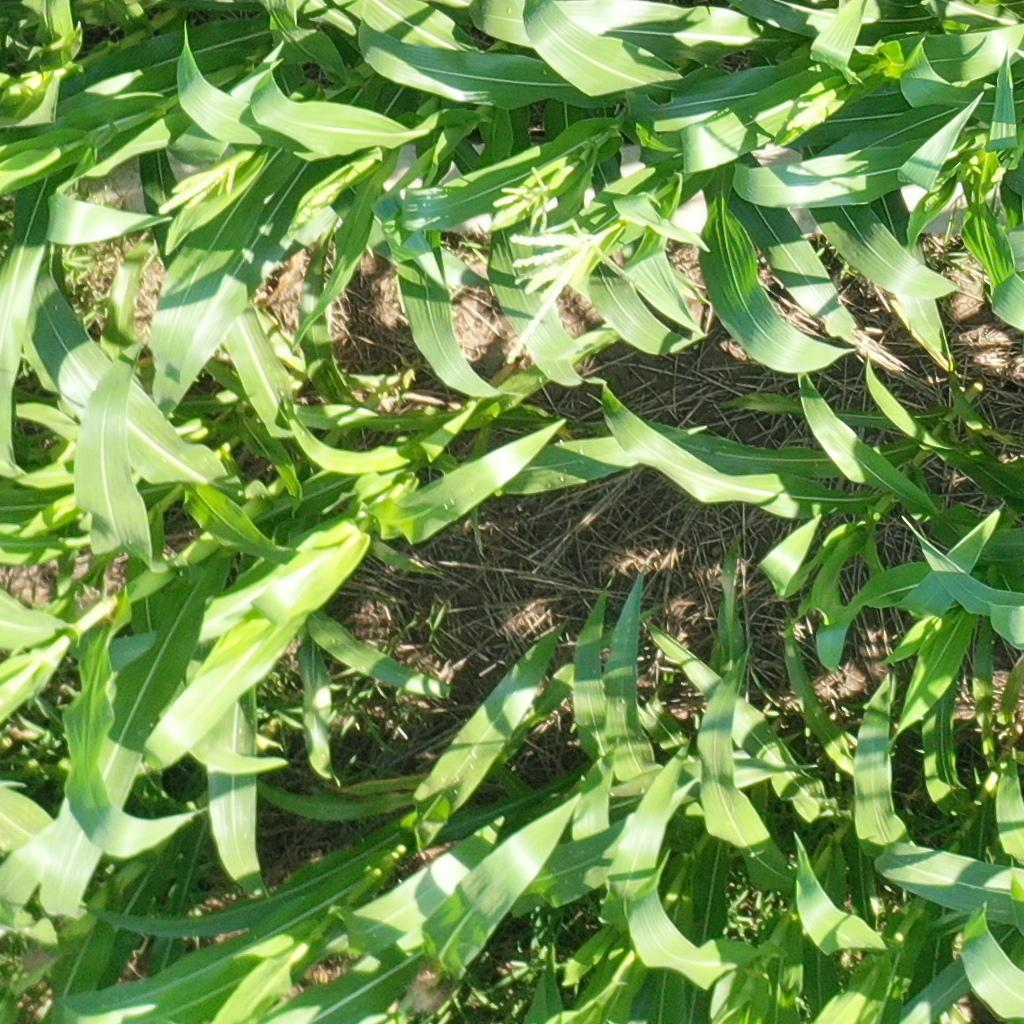Tassel: (506, 227, 613, 368), (477, 158, 552, 237), (156, 160, 242, 217), (290, 175, 345, 230), (780, 93, 834, 134)
